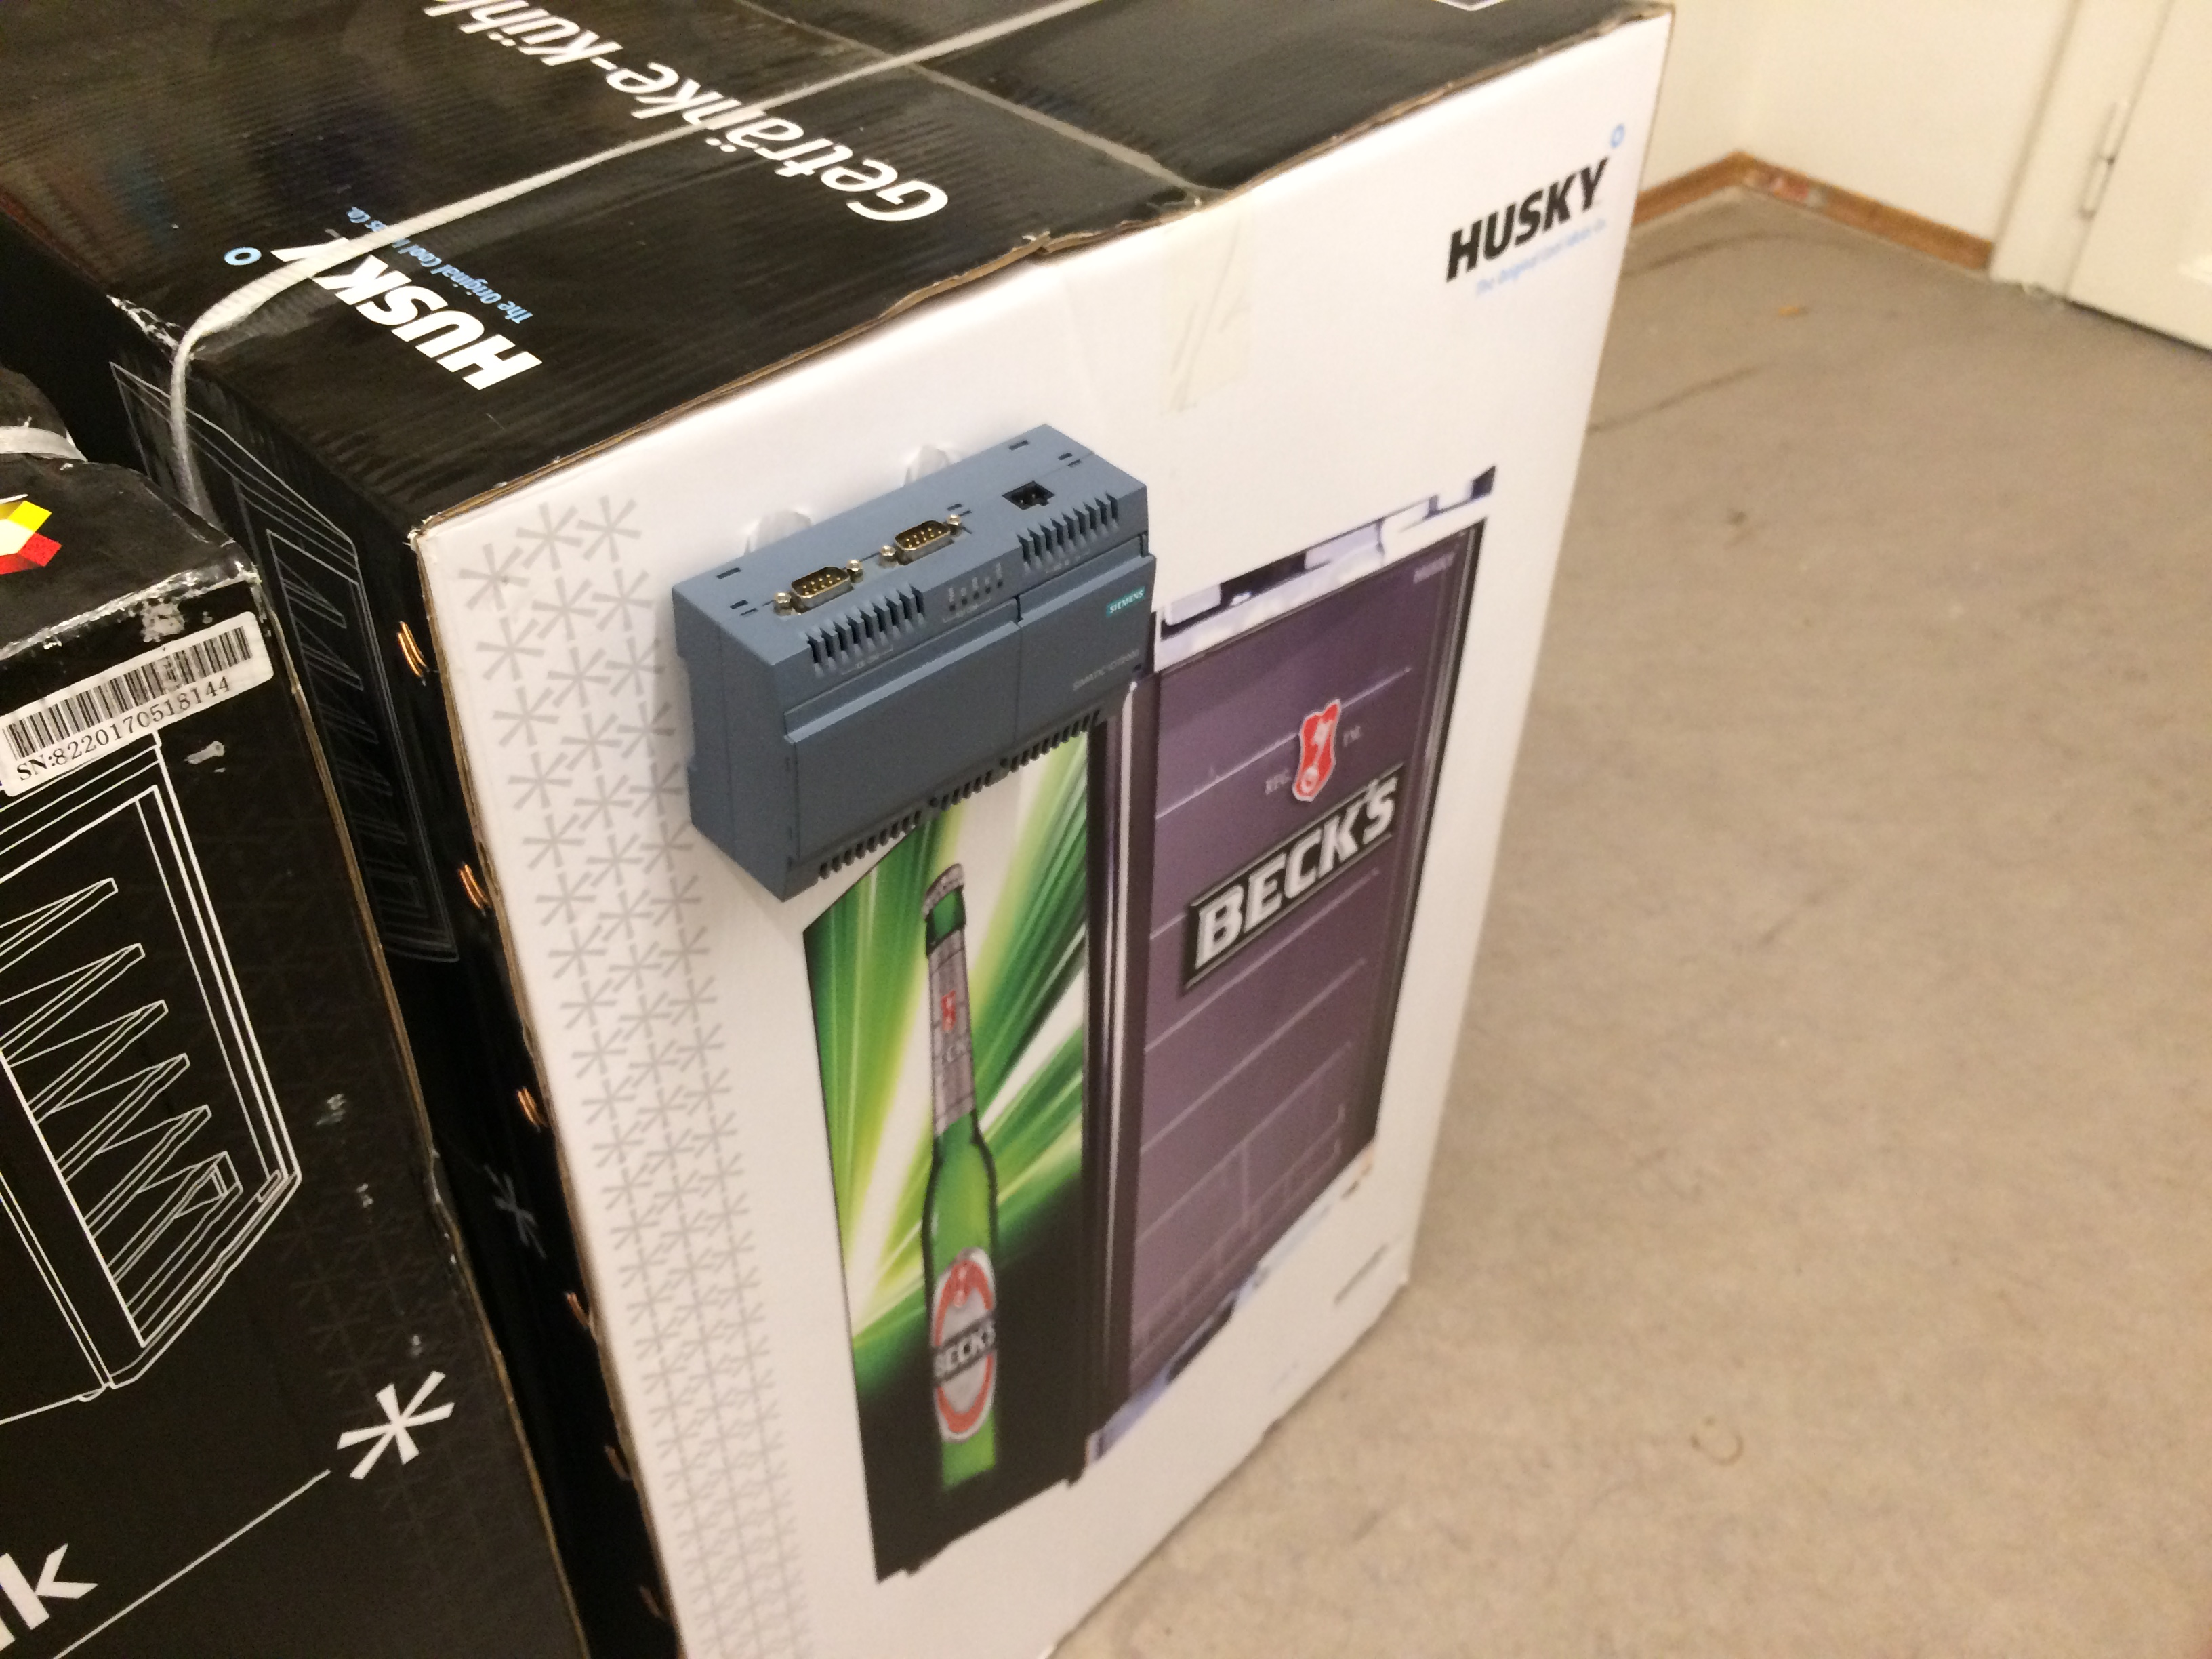iot2000: (667, 420, 1162, 908)
